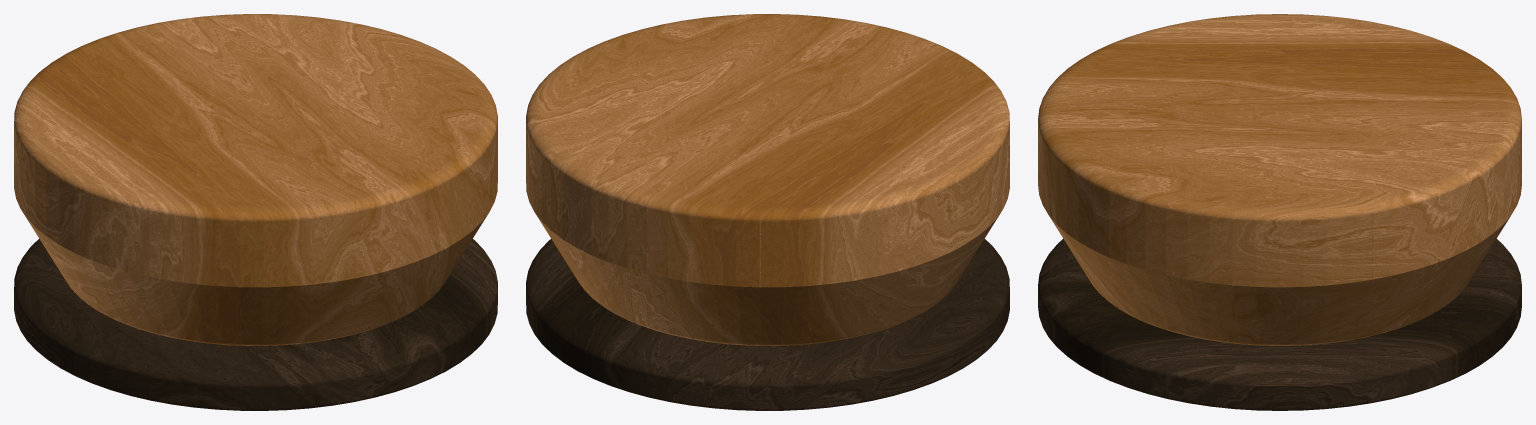
Rendered from light_pawn.fbx.
3 renders of one model, left to right at view 1: azimuth 30°, elevation 25°; view 2: azimuth 150°, elevation 25°; view 3: azimuth 270°, elevation 25°, orthographic.
Parts seen in each view (by area): view 1: PedestalTopPart, PedestalBottomPart; view 2: PedestalTopPart, PedestalBottomPart; view 3: PedestalTopPart, PedestalBottomPart.
Boxes of the visible parts, box(x1,y1,x2,y2) form: PedestalTopPart: box(14, 14, 497, 345); PedestalBottomPart: box(14, 239, 497, 410); PedestalTopPart: box(526, 14, 1009, 345); PedestalBottomPart: box(526, 239, 1009, 410); PedestalTopPart: box(1038, 14, 1521, 345); PedestalBottomPart: box(1038, 238, 1521, 410).
Size of the model in its own units: 15 by 6.92 by 15.
2 materials, 2 textured.
